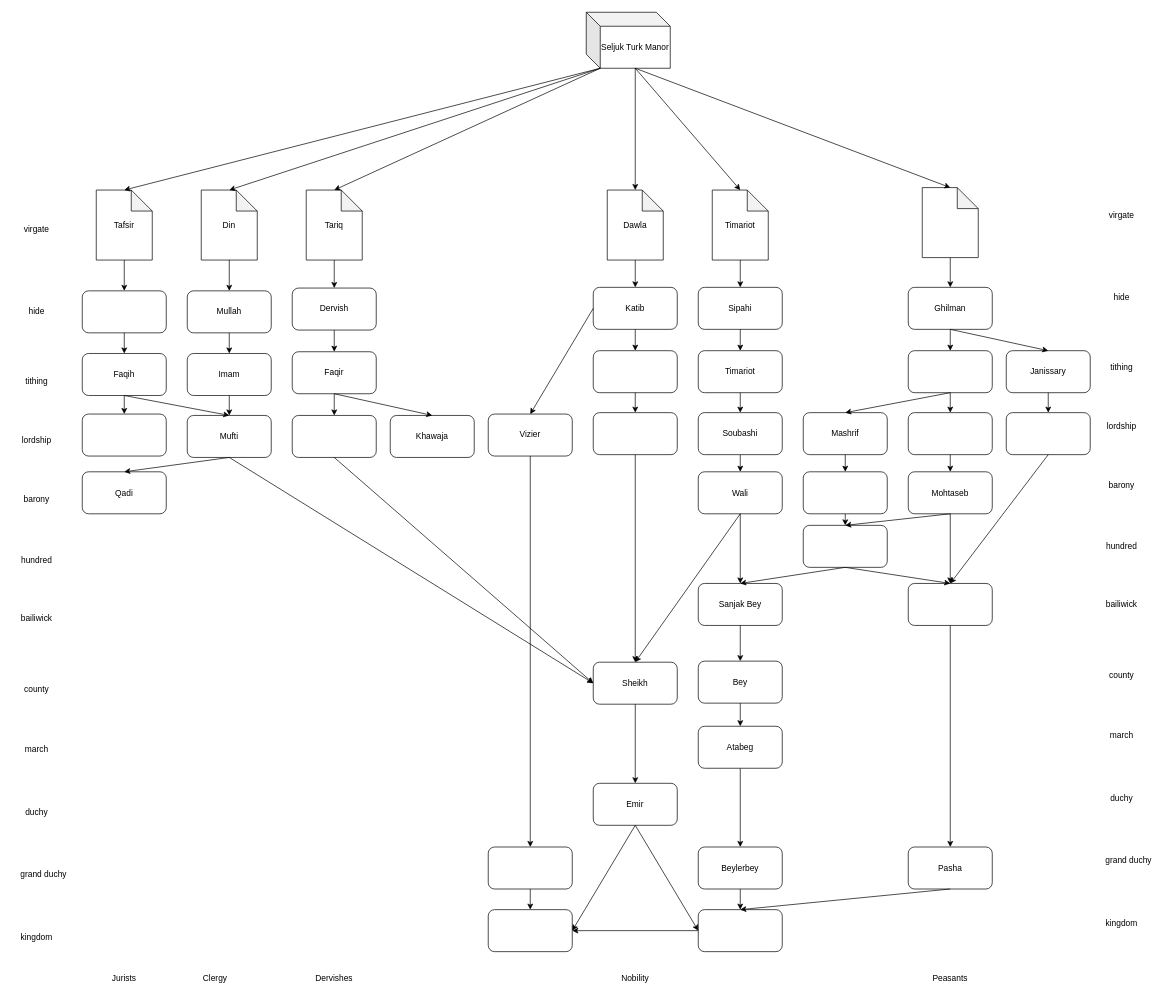
Some shapes in this 1172 by 998 pixel diagram are drawn without their labels. The box of each missing label's shape, as (x1, y1, x2, y2) in pixels:
Agha: (1006, 412, 1090, 455)
Alim: (82, 290, 166, 333)
Caliph: (488, 909, 572, 952)
Devshirme: (922, 187, 978, 258)
Grand Vizier: (488, 846, 572, 889)
Hajib: (908, 412, 992, 455)
Khaskiya: (908, 583, 992, 625)
Khazindar: (803, 471, 887, 514)
Mameluk: (908, 350, 992, 393)
Mufassir: (82, 413, 166, 456)
Murshid: (292, 415, 376, 457)
Sahib: (593, 350, 677, 393)
Sharif: (593, 412, 677, 455)
Sultan: (698, 909, 782, 952)
Ustadar: (803, 525, 887, 567)
